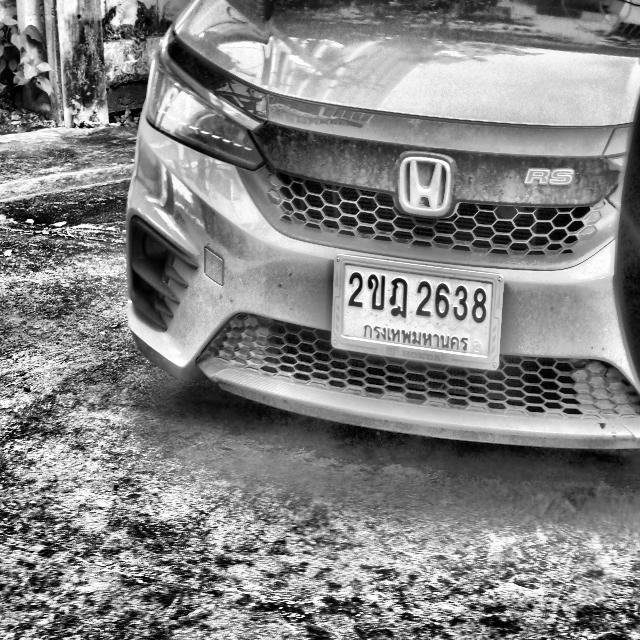license-plate: (331, 253, 504, 371)
